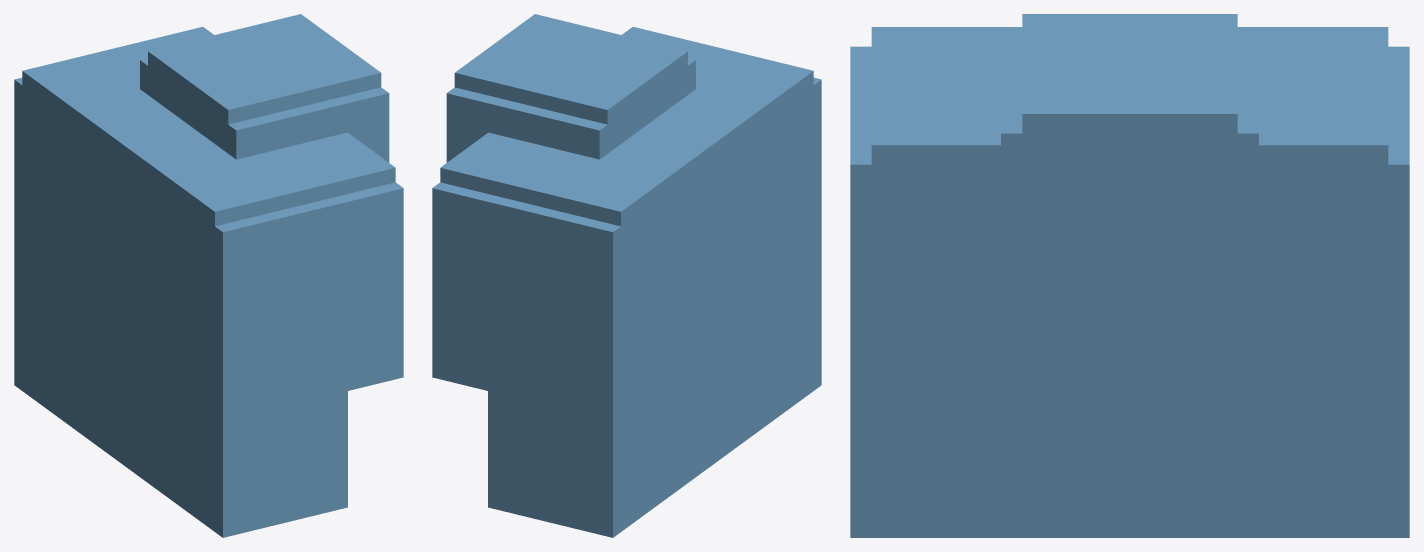
Rendered from av_hair_blue.glb.
3 renders of one model, left to right at view 1: azimuth 30°, elevation 25°; view 2: azimuth 150°, elevation 25°; view 3: azimuth 270°, elevation 25°, orthographic. The views are drawn at different scales.
Visible parts, largest first — view 1: model; view 2: model; view 3: model.
Boxes of the visible parts, x1,y1,x2,y2 form: model: (14,14,403,537); model: (432,14,821,537); model: (850,14,1409,537).
Size of the model in its own units: 0.16 by 0.25 by 0.26.
1 material, 1 textured.
